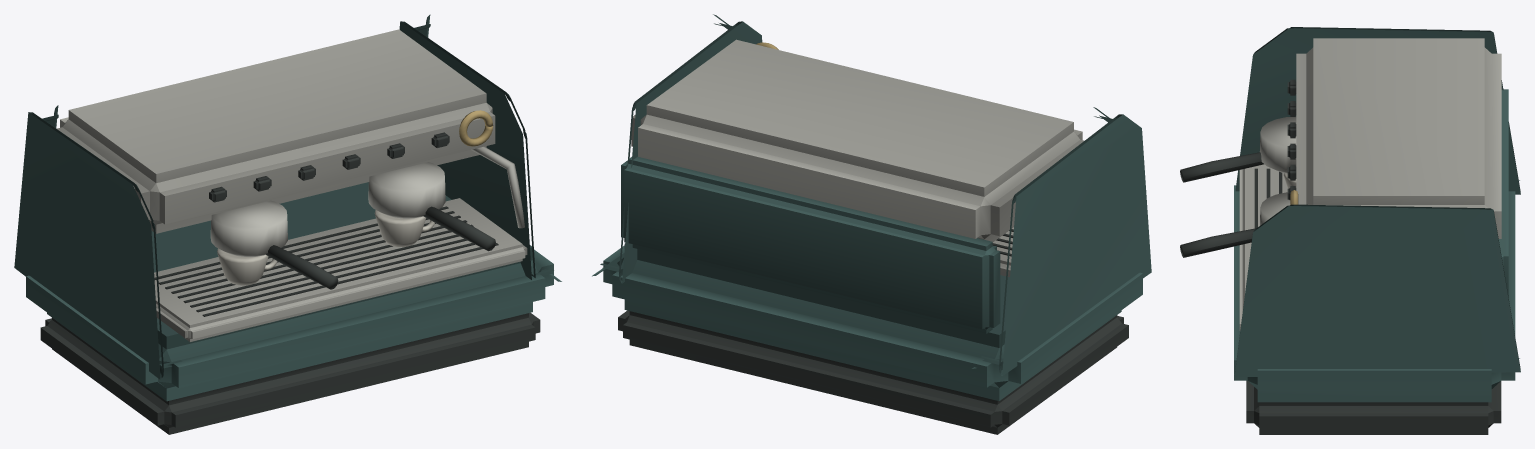
Rendered from diner-espresso.glb.
3 renders of one model, left to right at view 1: azimuth 30°, elevation 25°; view 2: azimuth 150°, elevation 25°; view 3: azimuth 270°, elevation 25°, orthographic. The views are drawn at different scales.
Visible parts, largest first — view 1: Frame; view 2: Frame; view 3: Frame.
Part boxes in pixels (bbox=[...]): Frame: bbox=[14, 14, 561, 434]; Frame: bbox=[592, 14, 1151, 434]; Frame: bbox=[1180, 27, 1520, 434].
Size of the model in its own units: 0.679 by 0.3881 by 0.5014.
